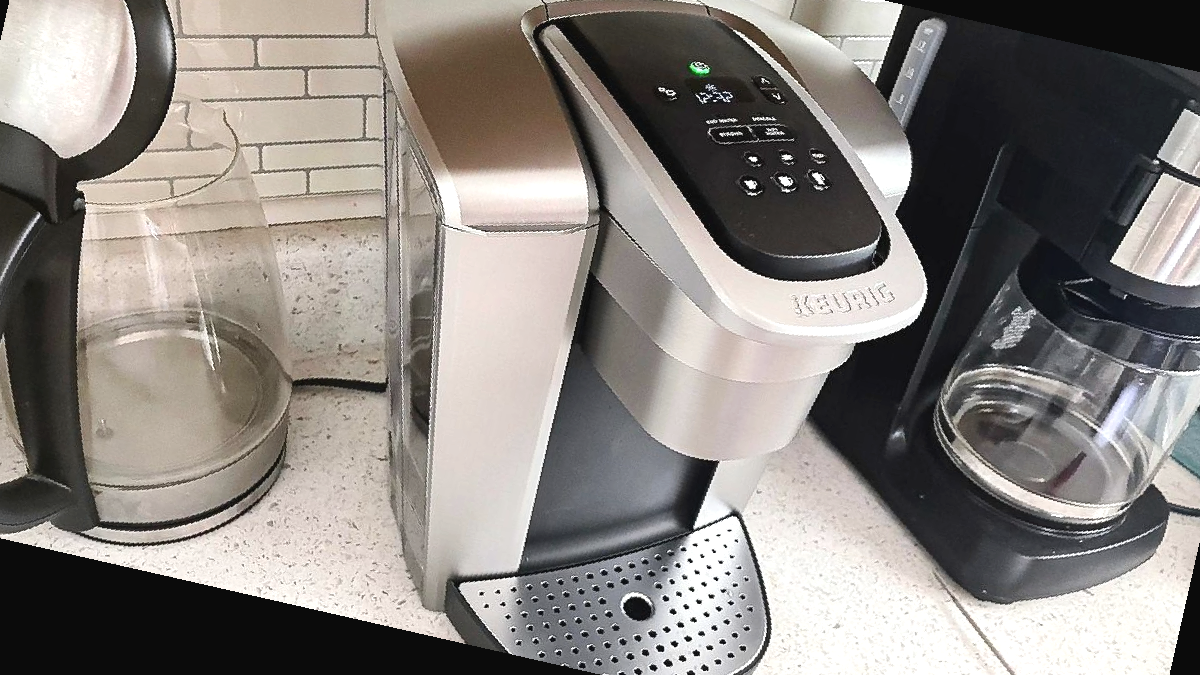10oz: (769, 170, 798, 197)
12oz: (803, 167, 832, 194)
4oz: (742, 148, 765, 168)
6oz: (775, 147, 799, 167)
8oz: (735, 172, 764, 199)
add_water: (699, 102, 747, 128)
descale: (748, 98, 790, 123)
hot: (753, 117, 801, 145)
iced: (808, 144, 831, 164)
power: (689, 60, 712, 75)
strong: (705, 120, 754, 148)
